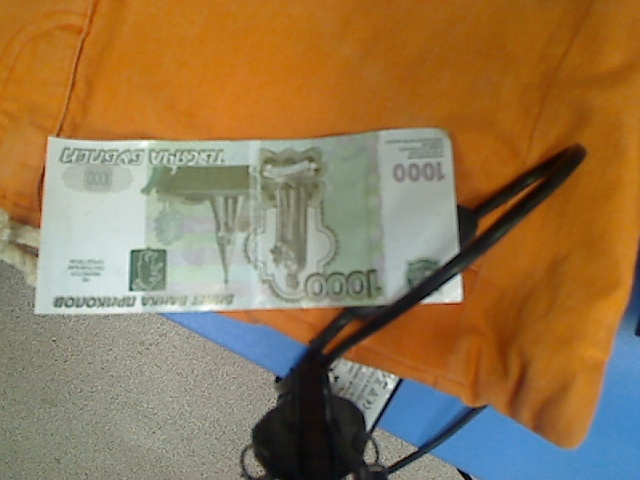banknotes: (33, 134, 468, 315)
